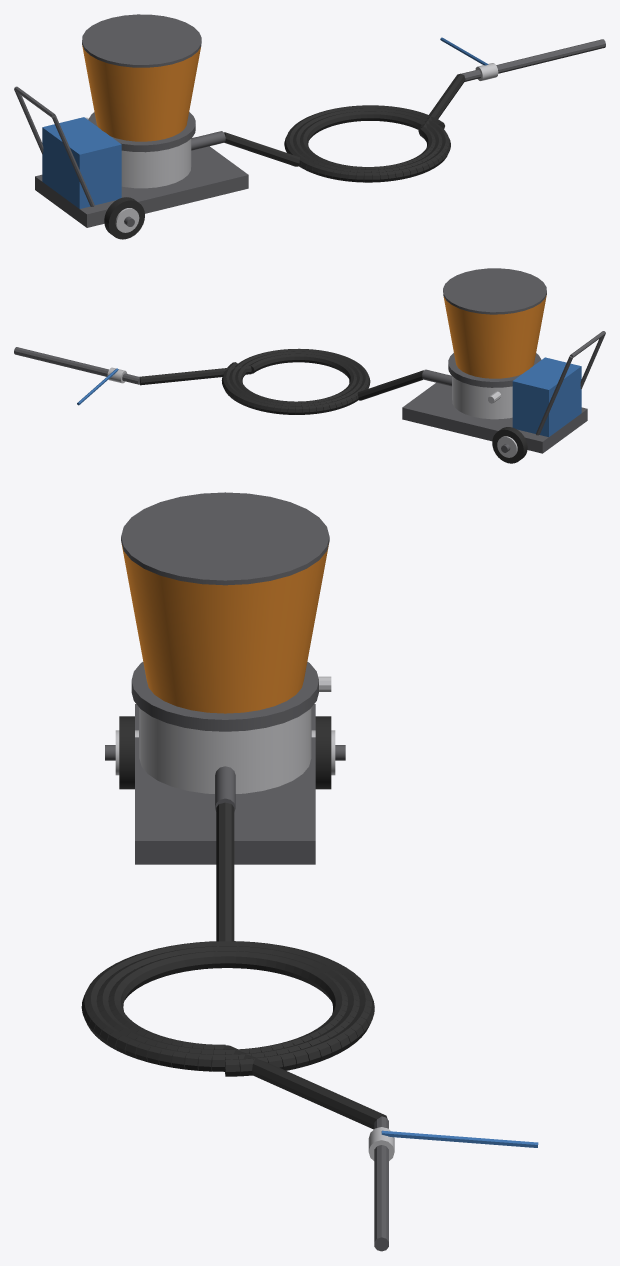
Rendered from SM_GunningMachine.fbx.
3 views of the same model, one above another, from view 1: azimuth 30°, elevation 25°; view 2: azimuth 150°, elevation 25°; view 3: azimuth 270°, elevation 25° (orthographic). The views are drawn at different scales.
Parts seen in each view (by area): view 1: GM_Body, GM_Hose, GM_Nozzle, GM_Wheel_R; view 2: GM_Body, GM_Hose, GM_Nozzle, GM_Wheel_L; view 3: GM_Body, GM_Hose, GM_Nozzle, GM_Wheel_L, GM_Wheel_R.
Part boxes in pixels (box(x1,y1,x2,y2)): GM_Body: box(14, 14, 248, 227); GM_Hose: box(224, 73, 465, 182); GM_Nozzle: box(440, 37, 605, 81); GM_Wheel_R: box(104, 197, 144, 239); GM_Body: box(402, 268, 605, 453); GM_Hose: box(139, 348, 423, 414); GM_Nozzle: box(14, 347, 139, 405); GM_Wheel_L: box(492, 427, 527, 463); GM_Body: box(121, 492, 331, 864); GM_Hose: box(81, 802, 387, 1129); GM_Nozzle: box(368, 1116, 538, 1251); GM_Wheel_L: box(311, 716, 345, 789); GM_Wheel_R: box(105, 716, 138, 789).
Bounding box in the file's own units: 474 × 123 × 175.
